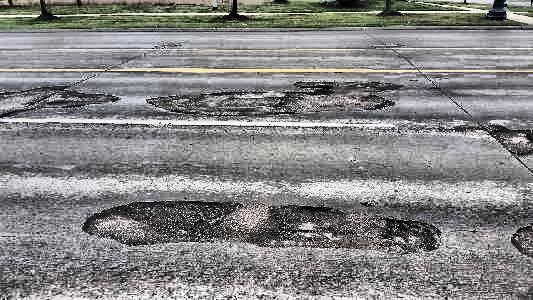pothole: (85, 200, 243, 250), (150, 88, 397, 116), (254, 201, 354, 251), (0, 84, 123, 116), (379, 216, 442, 258), (490, 127, 533, 159), (511, 220, 533, 260), (340, 80, 405, 90), (293, 78, 340, 87), (317, 82, 334, 93)
